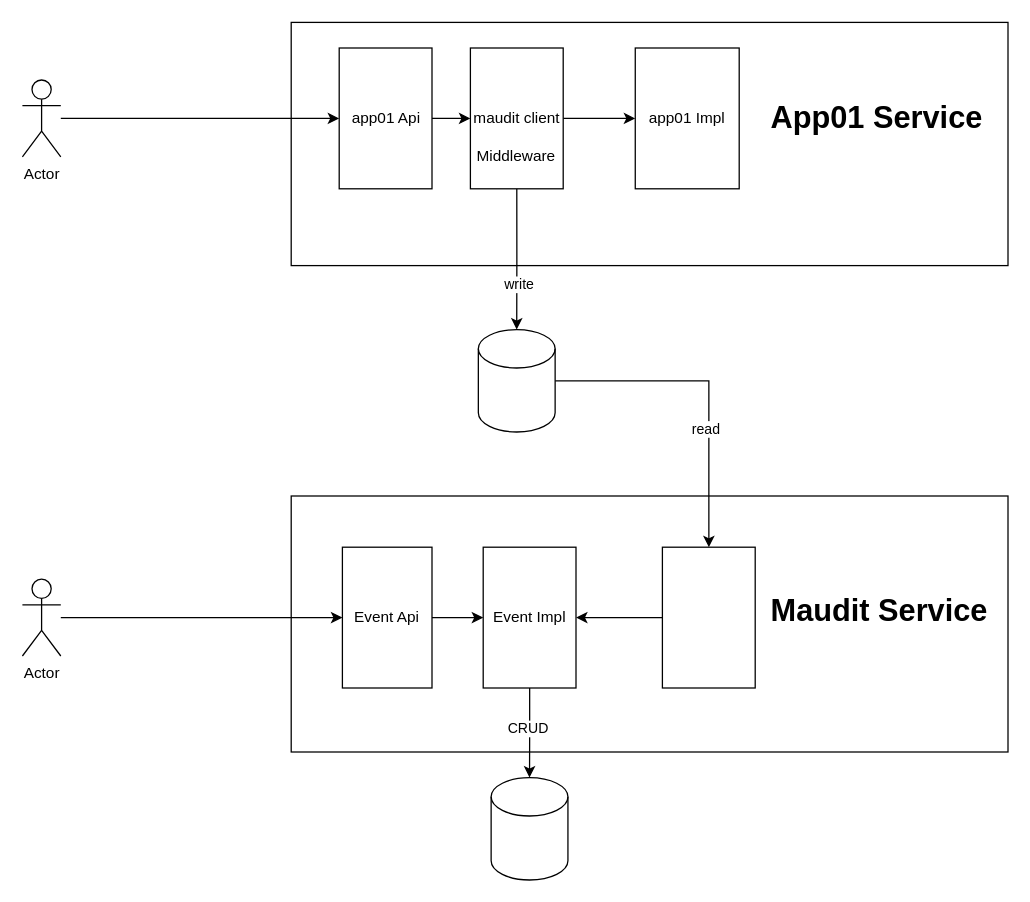
Image size: 1030x902. Some labels were removed from this diagram. The box of each missing label's shape, as (x1, y1, x2, y2) in pixels:
Event Consumer: (661, 546, 755, 688)
kafka: (477, 328, 555, 432)
Mysql: (490, 776, 568, 880)
